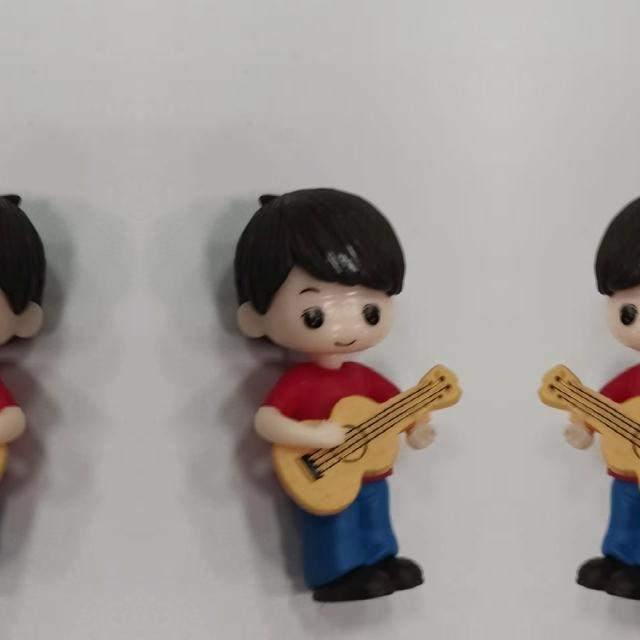man cloth: (258, 367, 420, 481), (580, 367, 640, 481), (0, 367, 22, 481)
man head: (216, 180, 410, 368), (0, 179, 64, 368), (589, 179, 640, 368)
trousers: (296, 481, 434, 605), (566, 481, 640, 605)
